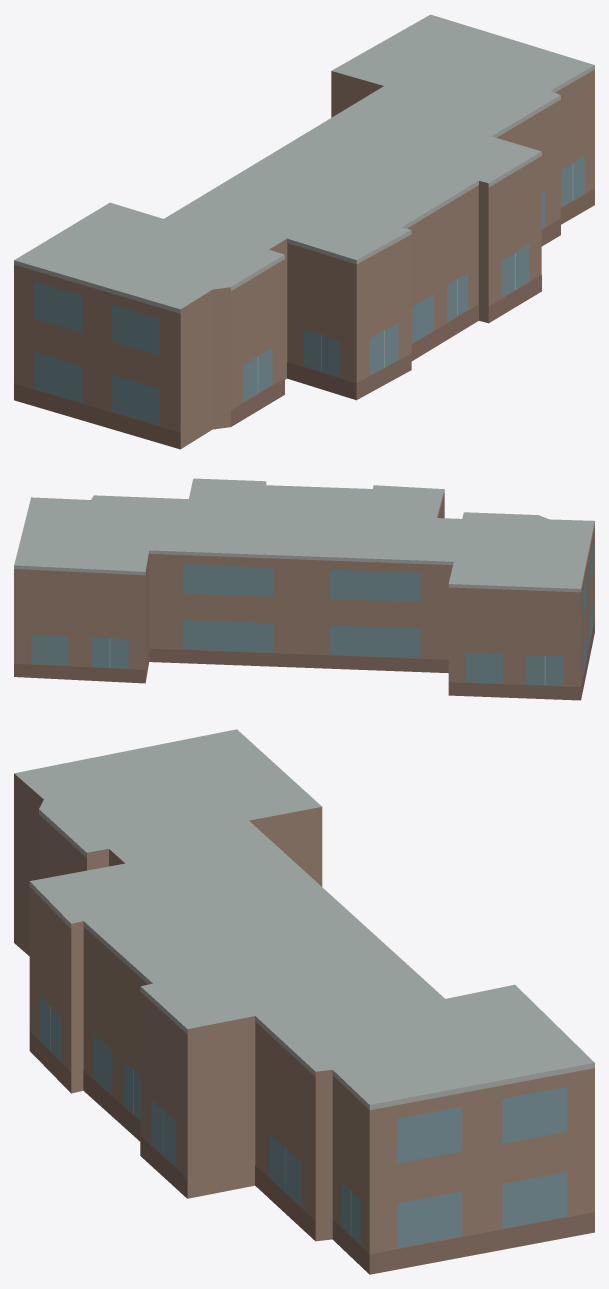
The model's file is survey-upis-32607629.glb.
The picture shows the model from 3 angles, top to bottom: view 1: azimuth 30°, elevation 25°; view 2: azimuth 150°, elevation 25°; view 3: azimuth 270°, elevation 25°; orthographic projection. The views are drawn at different scales.
Parts seen in each view (by area): view 1: survey-upis-32607629.tmp; view 2: survey-upis-32607629.tmp; view 3: survey-upis-32607629.tmp.
Part boxes in pixels (x1=…): survey-upis-32607629.tmp: x1=14, y1=14, x2=594, y2=449; survey-upis-32607629.tmp: x1=14, y1=478, x2=594, y2=700; survey-upis-32607629.tmp: x1=14, y1=729, x2=594, y2=1274.
Size of the model in its own units: 37.25 by 7.84 by 24.33.
